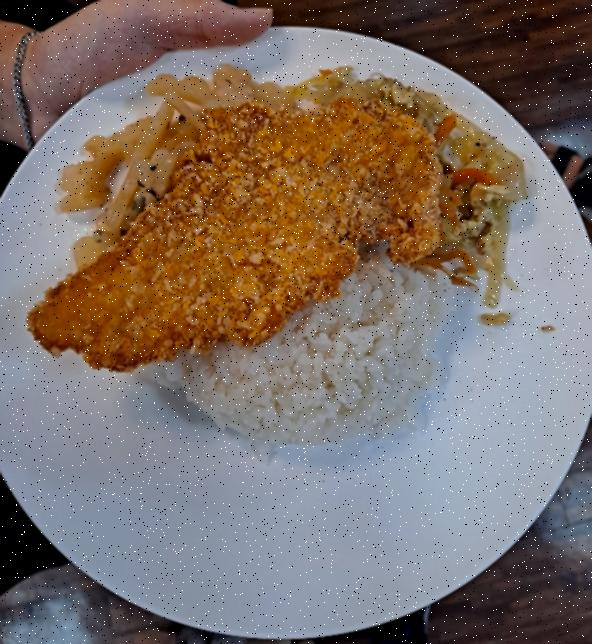chicken steak: (31, 96, 452, 370)
plate: (0, 19, 586, 635)
side dish: (315, 63, 546, 290), (53, 63, 304, 251)
white rice: (166, 230, 448, 452)
